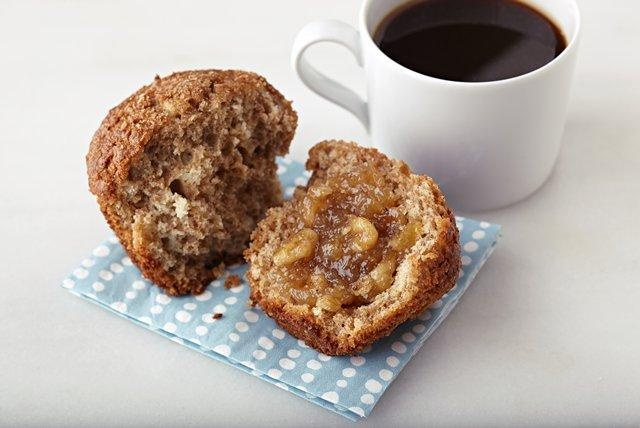background: (85, 45, 461, 237), (196, 0, 567, 54)
